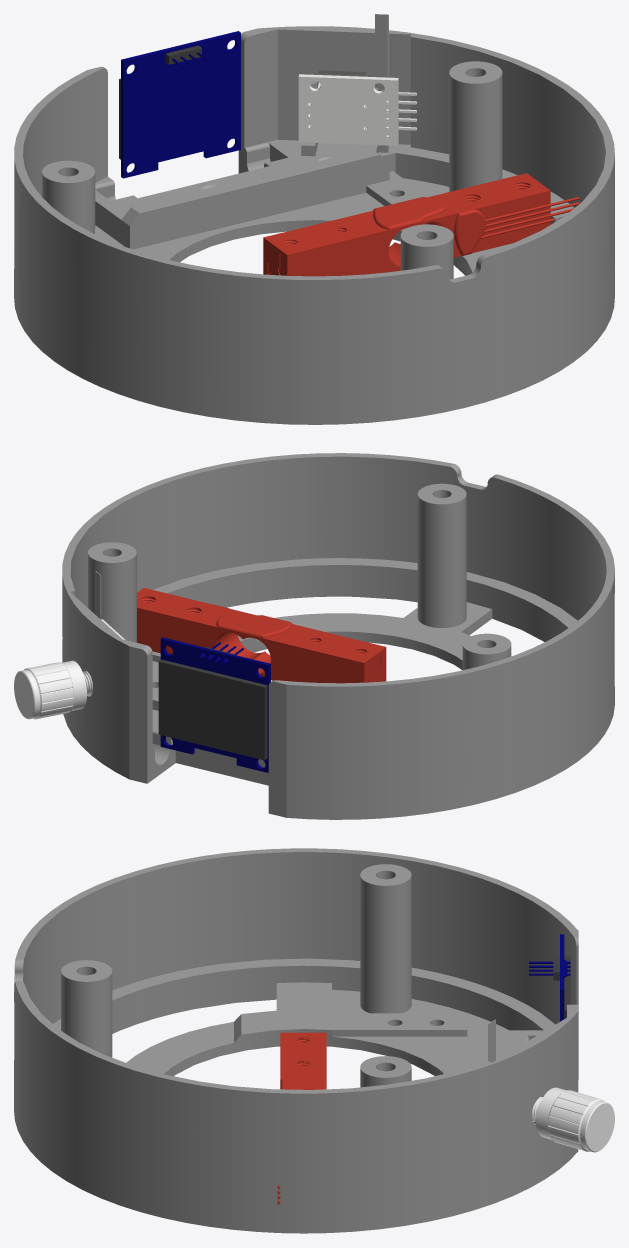
Rendered from MixMeasureBuddy.fbx.
3 renders of one model, top to bottom at view 1: azimuth 30°, elevation 25°; view 2: azimuth 150°, elevation 25°; view 3: azimuth 270°, elevation 25°, orthographic. The views are drawn at different scales.
Visible parts, largest first — view 1: ring, Body1 (×2), Body4, PCB, Body3; view 2: ring, Body1 (×2), Body4, Cap; view 3: ring, Cap, Body4, Body1 (×2).
Boxes of the visible parts, bbox=[...] form: ring: bbox=[14, 14, 614, 424]; Body1 (×2): bbox=[119, 31, 445, 229]; Body4: bbox=[263, 173, 550, 276]; PCB: bbox=[298, 74, 398, 145]; Body3: bbox=[454, 197, 579, 255]; ring: bbox=[62, 453, 614, 819]; Body1 (×2): bbox=[158, 612, 292, 772]; Body4: bbox=[137, 588, 386, 683]; Cap: bbox=[14, 660, 86, 719]; ring: bbox=[14, 848, 578, 1233]; Cap: bbox=[536, 1087, 614, 1152]; Body4: bbox=[280, 1032, 326, 1083]; Body1 (×2): bbox=[280, 934, 570, 1089].
Size of the model in its own units: 159 by 50 by 164.
